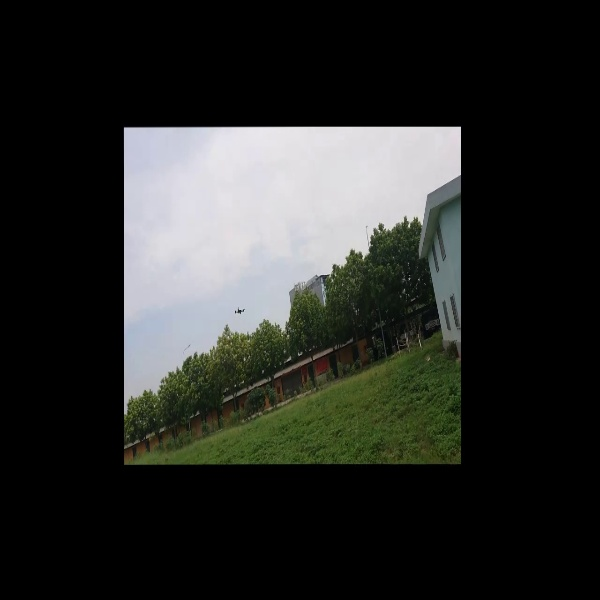drone: (228, 298, 250, 317)
